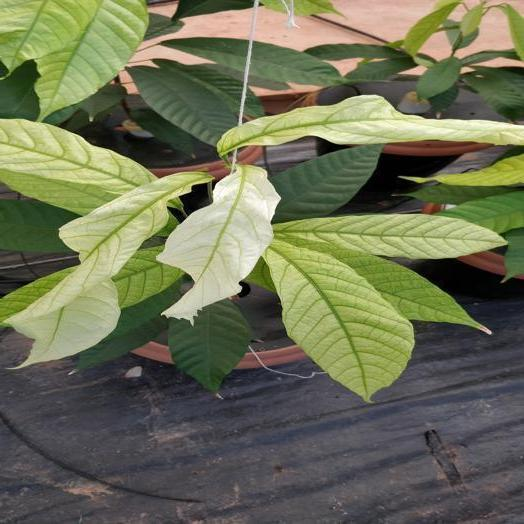Healthy Leaf: (131, 60, 237, 144), (269, 146, 382, 222), (78, 284, 178, 368), (168, 299, 251, 391), (0, 199, 77, 251), (251, 42, 341, 84), (463, 67, 523, 119), (161, 37, 248, 72), (187, 65, 241, 111), (404, 184, 519, 204), (417, 57, 461, 98), (345, 56, 415, 81), (304, 44, 408, 60), (246, 89, 262, 115)
Iron: (8, 173, 209, 329), (265, 240, 413, 400), (157, 165, 279, 323), (217, 95, 523, 156), (0, 119, 155, 214), (36, 0, 147, 116), (335, 250, 480, 327), (275, 215, 504, 258), (11, 280, 120, 368), (0, 0, 97, 70), (113, 247, 181, 308), (0, 268, 73, 322), (437, 192, 523, 233), (430, 154, 523, 186), (404, 1, 459, 55), (502, 5, 523, 60), (460, 2, 483, 36)
